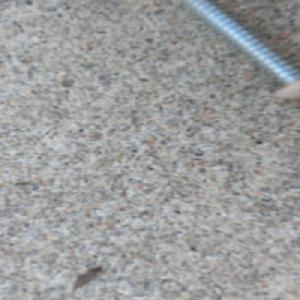Screw: (177, 0, 300, 101)
